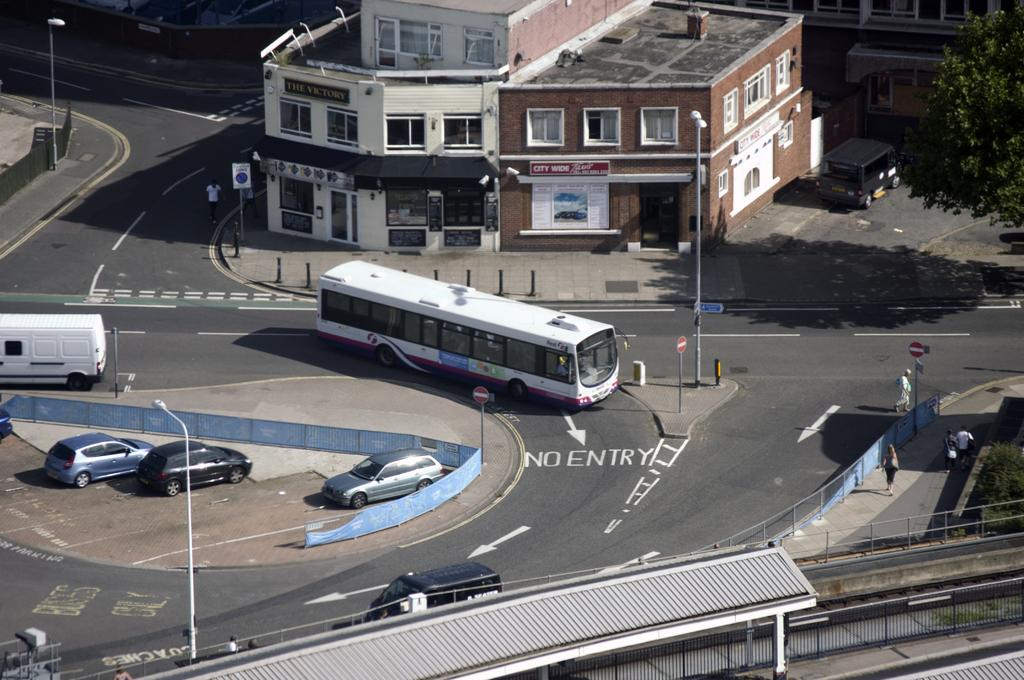vehicle: (317, 260, 631, 411), (367, 562, 502, 625), (0, 314, 108, 390), (321, 449, 446, 508), (43, 432, 157, 488), (139, 439, 252, 495)
